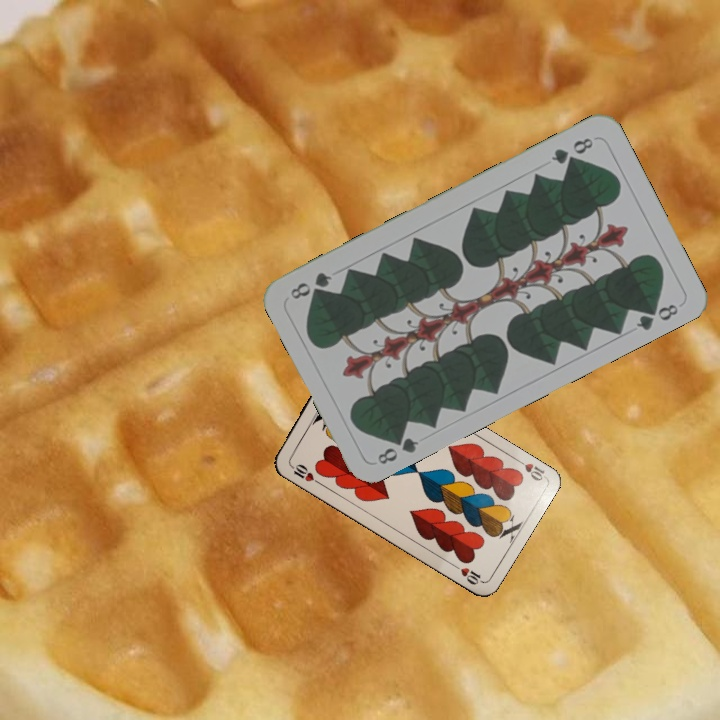G8: (373, 429, 421, 467), (547, 133, 596, 167)
H10: (511, 454, 548, 484), (286, 460, 322, 487)
